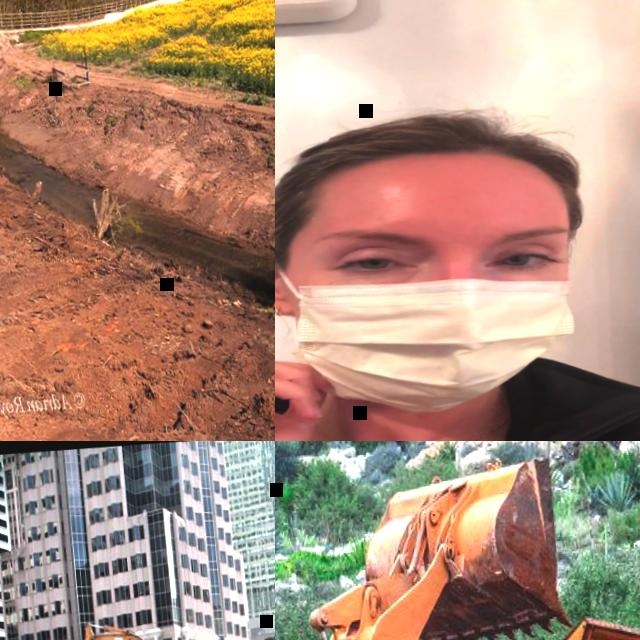Mask: (297, 259, 589, 409)
NO-Hardhat: (275, 110, 588, 220)
Person: (275, 87, 640, 441)
machinery: (275, 446, 601, 640), (74, 612, 200, 640)
